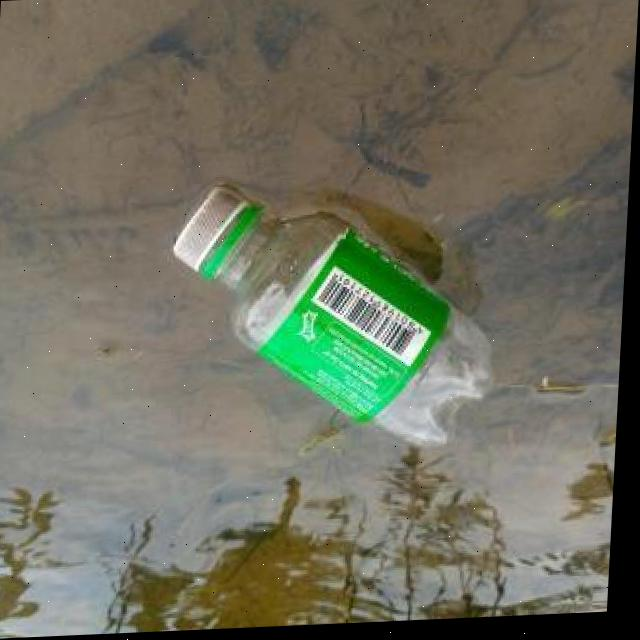bottle: (163, 171, 508, 463)
